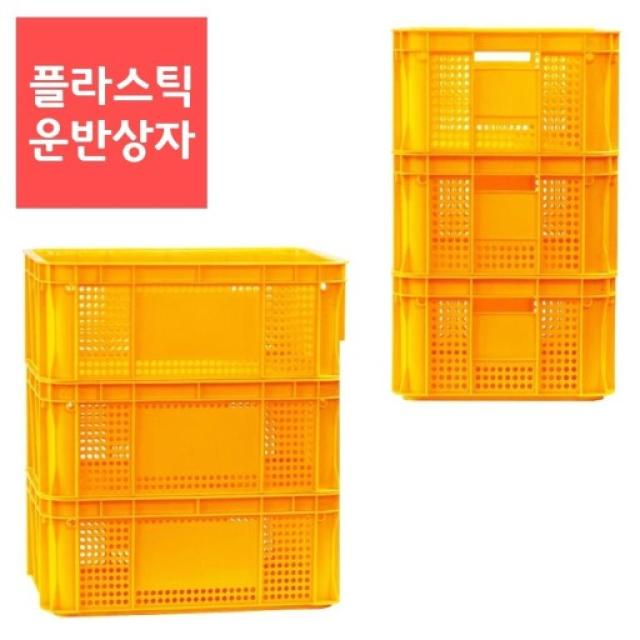basket: (25, 245, 348, 617), (393, 28, 620, 401)
